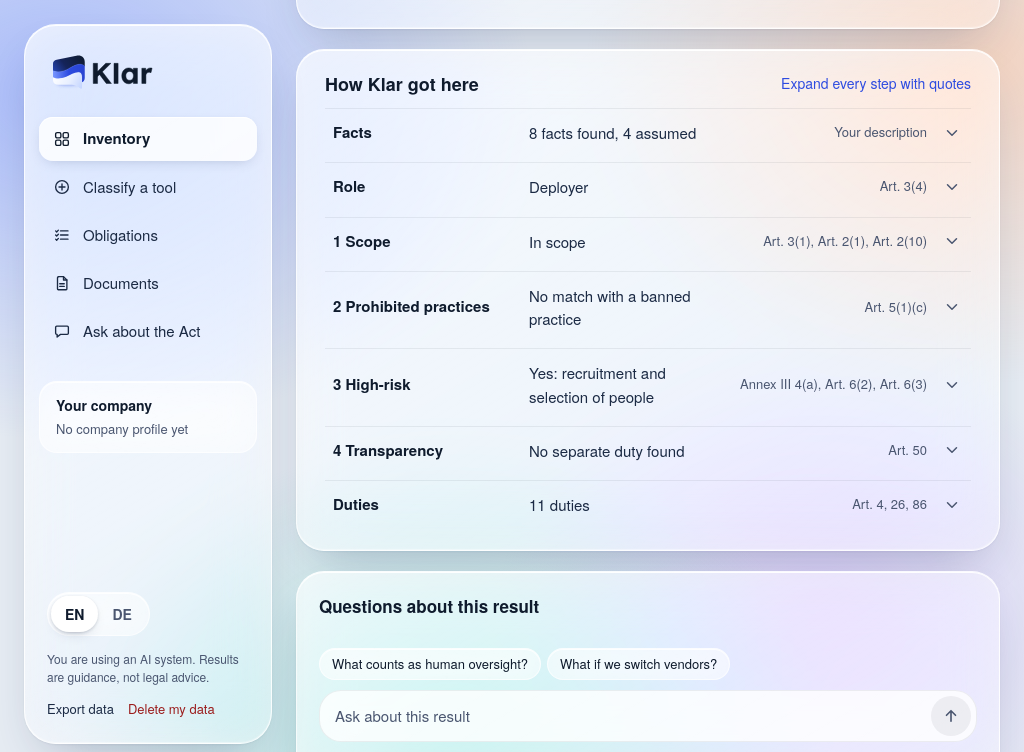
Test: Result summary › opens one step in full: its decision, facts with evidence tags and quoted provisions
(page scrolled)
Click the button "3 High-risk" at (648, 385), box [325,349,971,420]
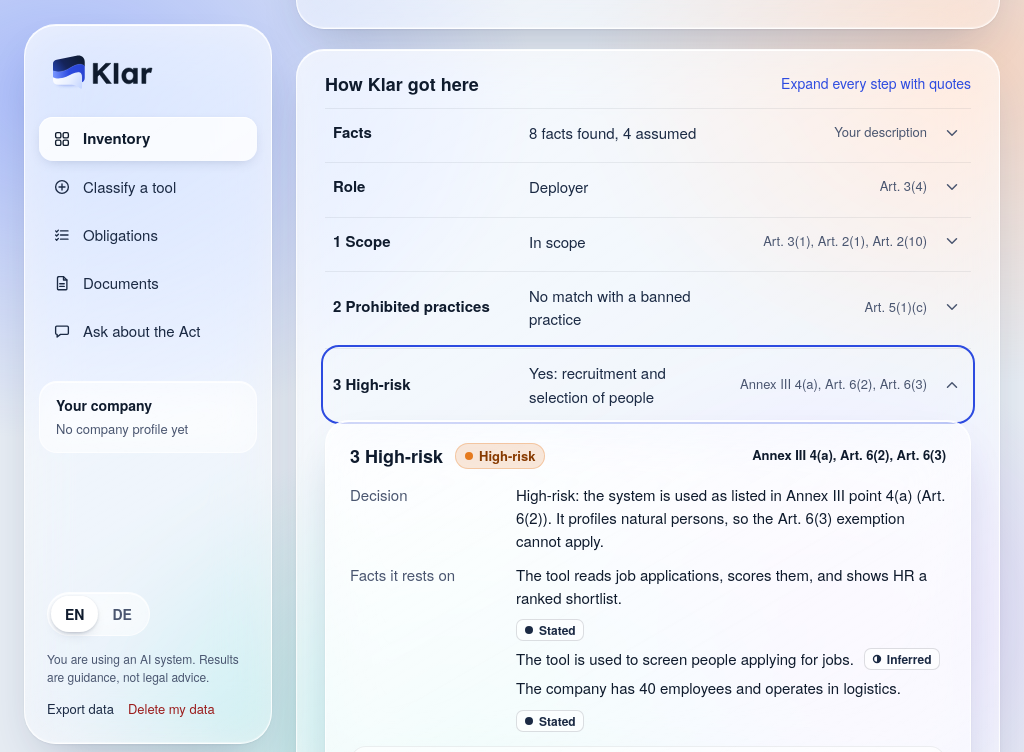
Expected: the heading "3 High-risk" is shown, [350,444,443,468]
Expected: the element that starts with "3 High-risk" shows "High-risk: the system is used as listed in Annex III point 4(a)", [516,484,945,551]
Expected: the 1st text "Stated" is shown, [516,619,584,641]
